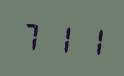one: (47, 18, 74, 56), (75, 20, 102, 58)
seven: (18, 17, 45, 54)
